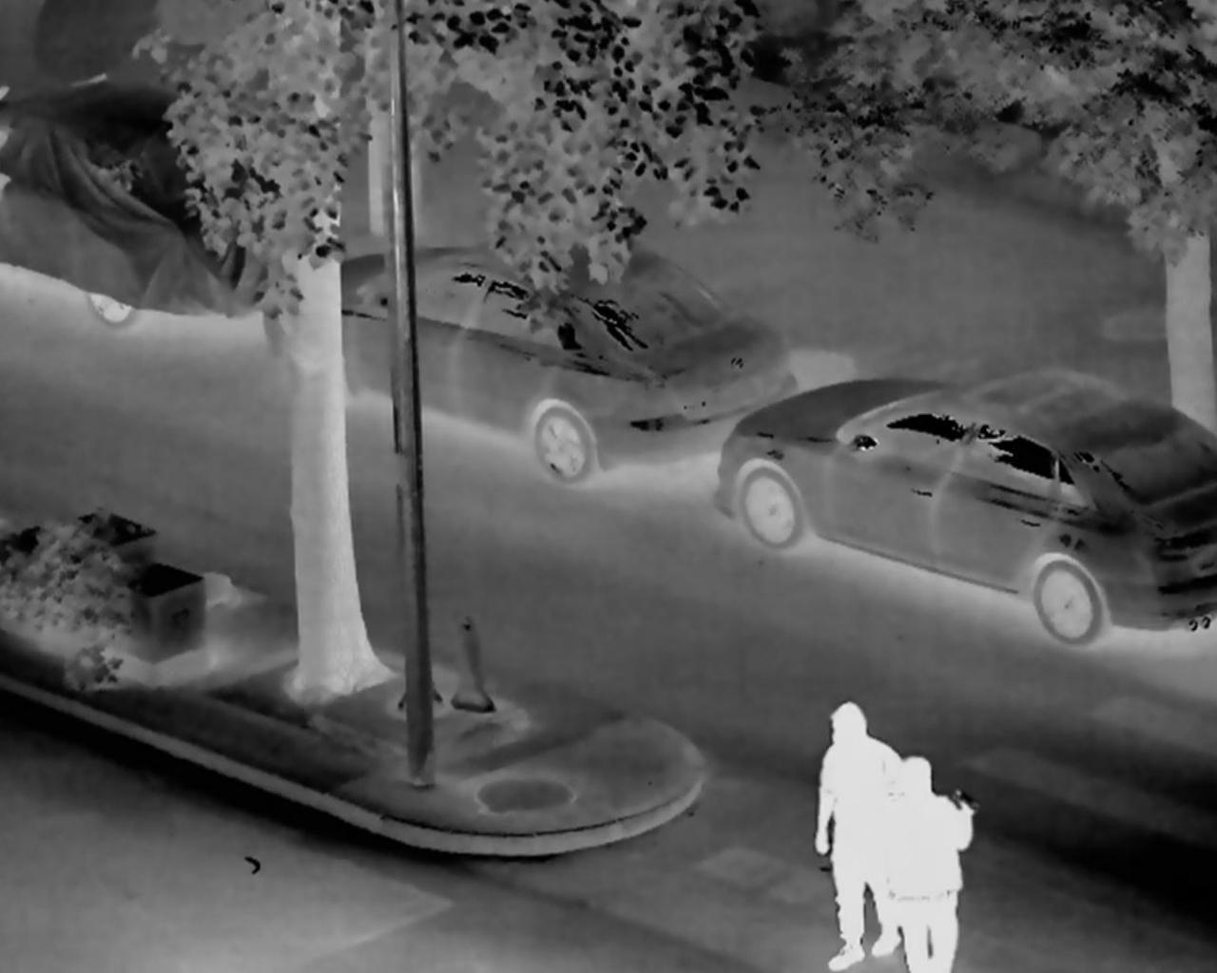person: (814, 705, 910, 973), (891, 751, 985, 973)
